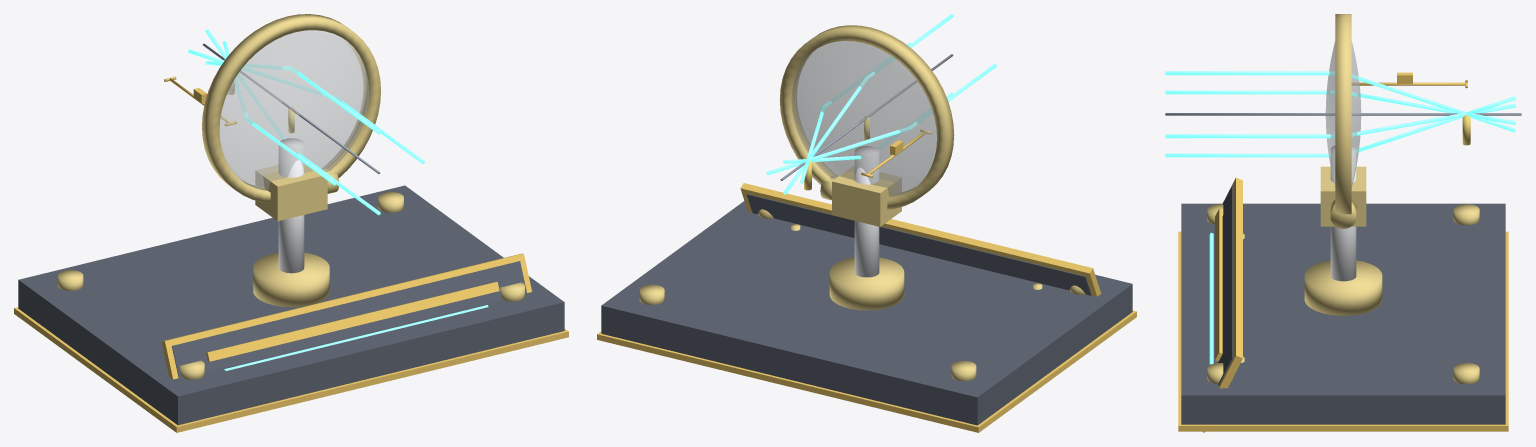
File: convex-lens.glb
3 views of the same model, side by side, from view 1: azimuth 30°, elevation 25°; view 2: azimuth 150°, elevation 25°; view 3: azimuth 270°, elevation 25° (orthographic). The views are drawn at different scales.
Visible parts, largest first — view 1: cvx_full_plinth, cvx_full_lens, cvx_sec_lens, cvx_sec_plaque_face, cvx_full_rim, cvx_full_plinth_rim, cvx_sec_plaque_trim, cvx_full_base_boss, cvx_sec_title_bar, cvx_full_clamp_collar, cvx_full_chrome_post, cvx_sec_sub1 (+1 smaller); view 2: cvx_full_plinth, cvx_full_lens, cvx_sec_lens, cvx_full_rim, cvx_sec_plaque_face, cvx_full_plinth_rim, cvx_sec_plaque_trim, cvx_full_base_boss, cvx_full_clamp_collar, cvx_full_chrome_post, cvx_sec_principal_axis; view 3: cvx_full_plinth, cvx_full_plinth_rim, cvx_full_rim, cvx_full_base_boss, cvx_sec_plaque_trim, cvx_sec_plaque_face, cvx_full_chrome_post, cvx_full_lens, cvx_sec_lens, cvx_full_clamp_collar, cvx_sec_title_bar, cvx_sec_principal_axis (+13 smaller).
Boxes of the visible parts, x1=… form: cvx_full_plinth: x1=18, y1=185, x2=564, y2=425; cvx_full_lens: x1=220, y1=30, x2=368, y2=190; cvx_sec_lens: x1=220, y1=30, x2=368, y2=190; cvx_sec_plaque_face: x1=172, y1=261, x2=526, y2=378; cvx_full_rim: x1=202, y1=14, x2=380, y2=203; cvx_full_plinth_rim: x1=14, y1=307, x2=568, y2=432; cvx_sec_plaque_trim: x1=161, y1=253, x2=531, y2=379; cvx_full_base_boss: x1=253, y1=252, x2=329, y2=306; cvx_sec_title_bar: x1=206, y1=281, x2=499, y2=361; cvx_full_clamp_collar: x1=255, y1=164, x2=327, y2=221; cvx_full_chrome_post: x1=278, y1=138, x2=304, y2=273; cvx_sec_sub1: x1=224, y1=305, x2=488, y2=370; cvx_full_plinth: x1=601, y1=201, x2=1132, y2=425; cvx_full_lens: x1=791, y1=41, x2=936, y2=197; cvx_sec_lens: x1=792, y1=41, x2=936, y2=196; cvx_full_rim: x1=779, y1=25, x2=954, y2=209; cvx_sec_plaque_face: x1=746, y1=193, x2=1091, y2=295; cvx_full_plinth_rim: x1=597, y1=310, x2=1136, y2=432; cvx_sec_plaque_trim: x1=740, y1=183, x2=1101, y2=296; cvx_full_base_boss: x1=829, y1=257, x2=904, y2=310; cvx_full_clamp_collar: x1=832, y1=166, x2=901, y2=226; cvx_full_chrome_post: x1=854, y1=146, x2=879, y2=277; cvx_sec_principal_axis: x1=780, y1=54, x2=953, y2=180; cvx_full_plinth: x1=1181, y1=203, x2=1505, y2=424; cvx_full_plinth_rim: x1=1178, y1=231, x2=1508, y2=431; cvx_full_rim: x1=1335, y1=14, x2=1351, y2=214; cvx_full_base_boss: x1=1304, y1=260, x2=1382, y2=315; cvx_sec_plaque_trim: x1=1202, y1=177, x2=1242, y2=432; cvx_sec_plaque_face: x1=1218, y1=185, x2=1233, y2=385; cvx_full_chrome_post: x1=1330, y1=145, x2=1356, y2=281; cvx_full_lens: x1=1326, y1=43, x2=1360, y2=184; cvx_sec_lens: x1=1326, y1=44, x2=1360, y2=184; cvx_full_clamp_collar: x1=1320, y1=166, x2=1366, y2=226; cvx_sec_title_bar: x1=1215, y1=208, x2=1222, y2=361; cvx_sec_principal_axis: x1=1165, y1=113, x2=1521, y2=115.
Bounding box in the file's own units: 0.142 × 0.1092 × 0.11.
